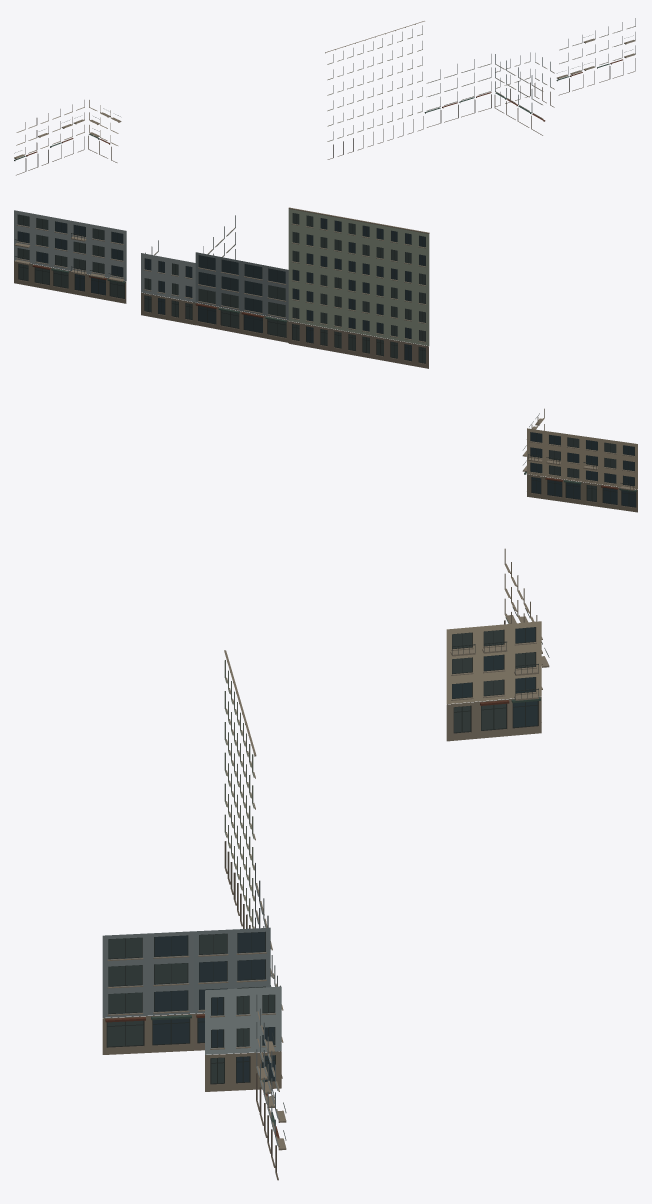
The model's file is showcase_facades.glb.
3 views of the same model, one above another, from view 1: azimuth 30°, elevation 25°; view 2: azimuth 150°, elevation 25°; view 3: azimuth 270°, elevation 25° (orthographic). The views are drawn at different scales.
Visible parts, largest first — view 1: ShowcaseFacade4, ShowcaseFacade3; view 2: ShowcaseFacade4, ShowcaseFacade3; view 3: ShowcaseFacade4, ShowcaseFacade3.
Boxes of the visible parts, box(x1,y1,x2,y2) form: ShowcaseFacade4: box(325, 18, 635, 159); ShowcaseFacade3: box(14, 100, 121, 175); ShowcaseFacade4: box(14, 207, 429, 368); ShowcaseFacade3: box(522, 408, 637, 512); ShowcaseFacade4: box(102, 650, 286, 1180); ShowcaseFacade3: box(446, 548, 549, 741).
Bounding box in the file's own units: 133 × 26.68 × 45.49.
